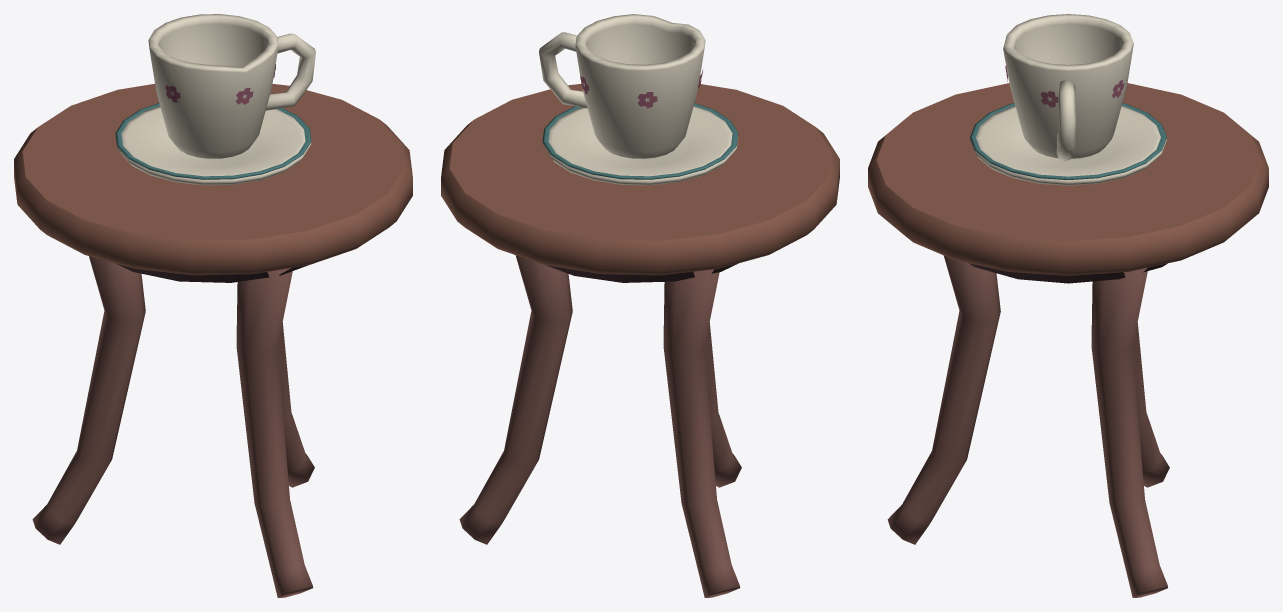
The model's file is teacup.glb.
3 renders of one model, left to right at view 1: azimuth 30°, elevation 25°; view 2: azimuth 150°, elevation 25°; view 3: azimuth 270°, elevation 25°, orthographic.
Visible parts, largest first — view 1: teacup; view 2: teacup; view 3: teacup.
Boxes of the visible parts, x1,y1,x2,y2 form: teacup: [14, 14, 412, 597]; teacup: [441, 14, 839, 597]; teacup: [868, 14, 1268, 597].
Size of the model in its own units: 0.472 by 0.6503 by 0.472.
